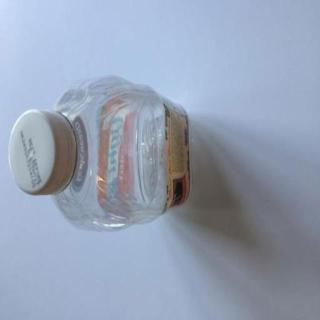Plastic-bottle: (9, 75, 193, 233)
